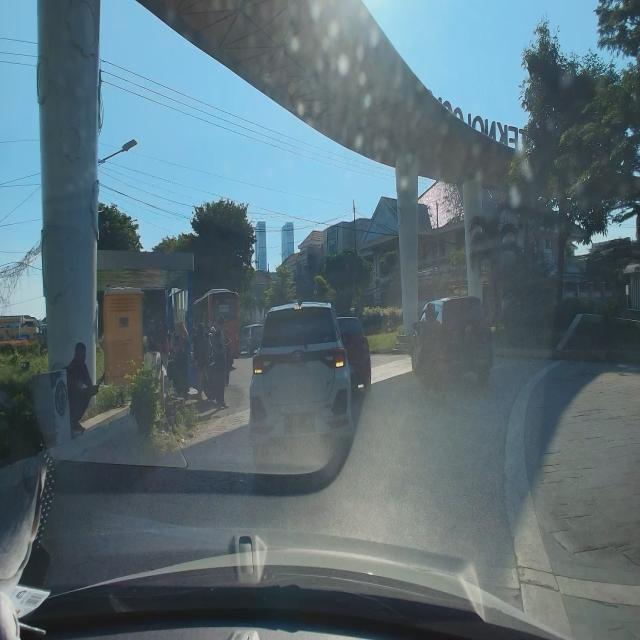car: (247, 294, 354, 468)
